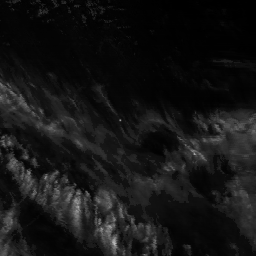Target: (117, 117, 122, 122)
